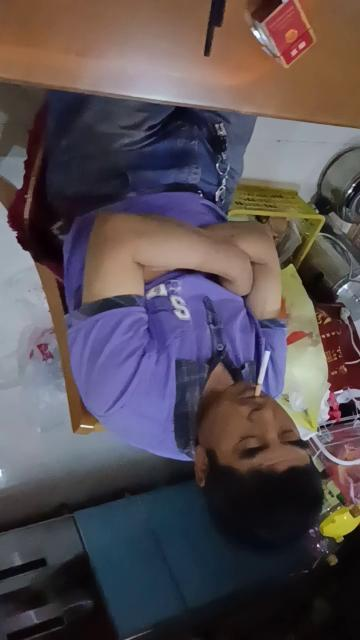Smoking: (254, 350, 272, 396)
